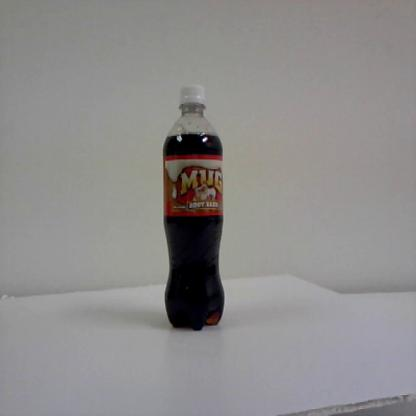bottle: (160, 81, 227, 332)
